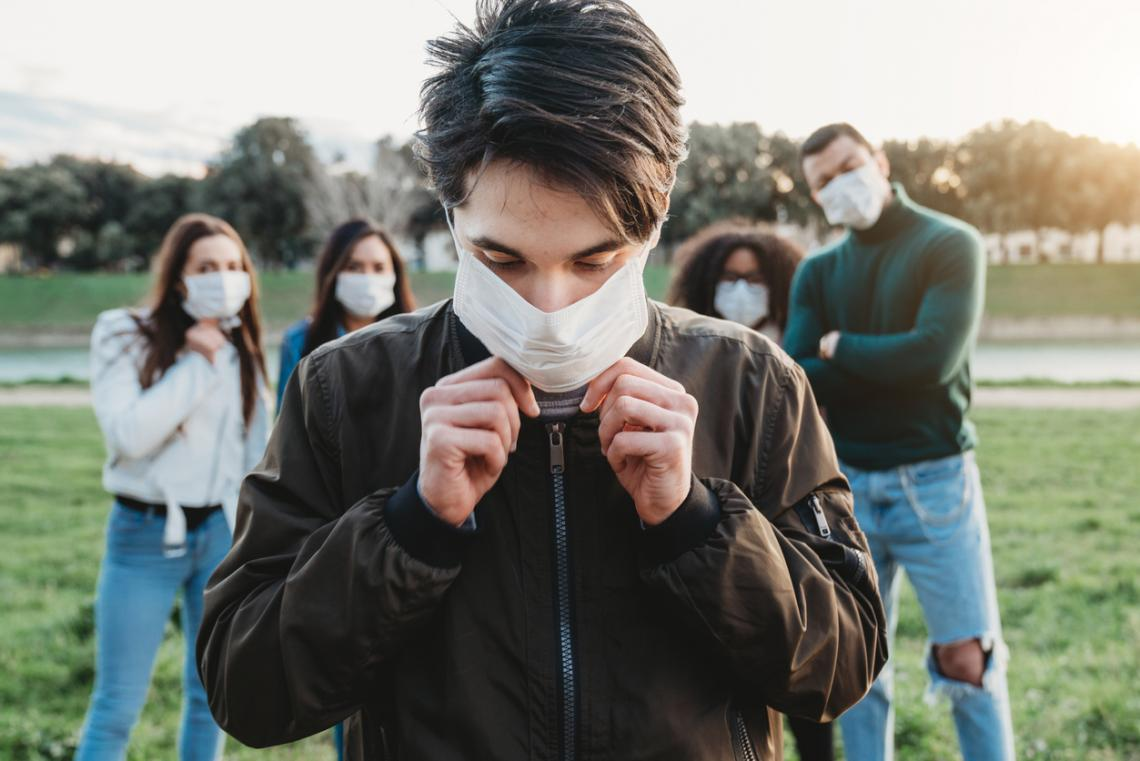with_mask: (436, 122, 674, 390), (676, 223, 801, 345), (150, 225, 258, 334), (796, 126, 901, 233), (321, 227, 406, 318)
